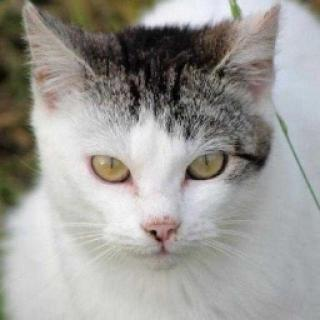cat: (20, 0, 284, 280)
nose: (134, 205, 186, 249)
